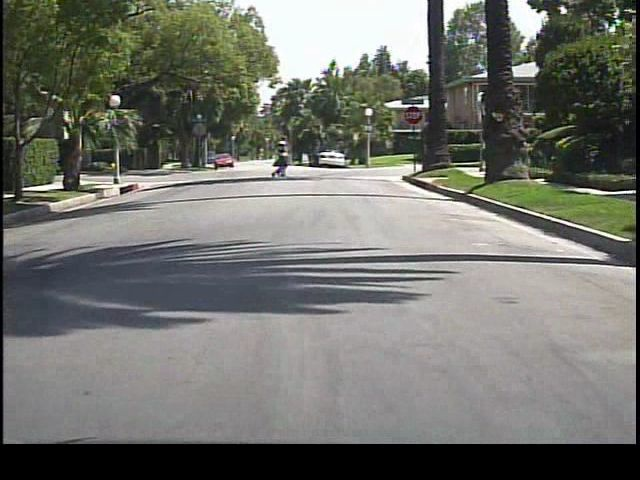person: (272, 135, 291, 177)
